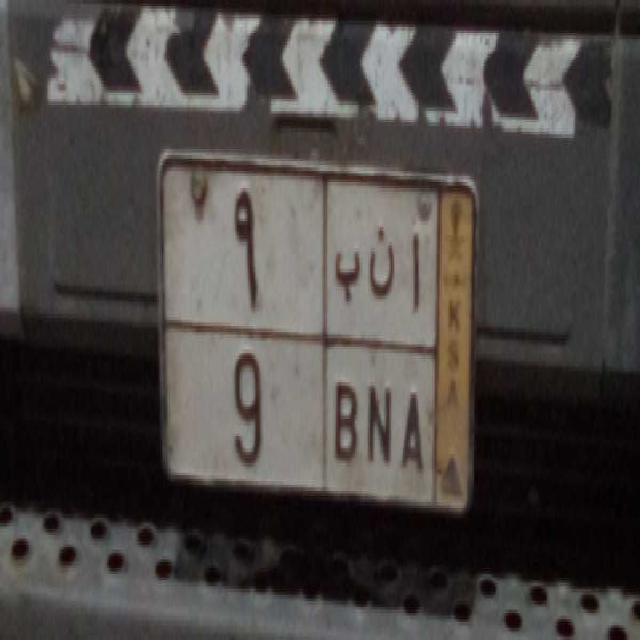license_plate: (164, 322, 436, 504)
